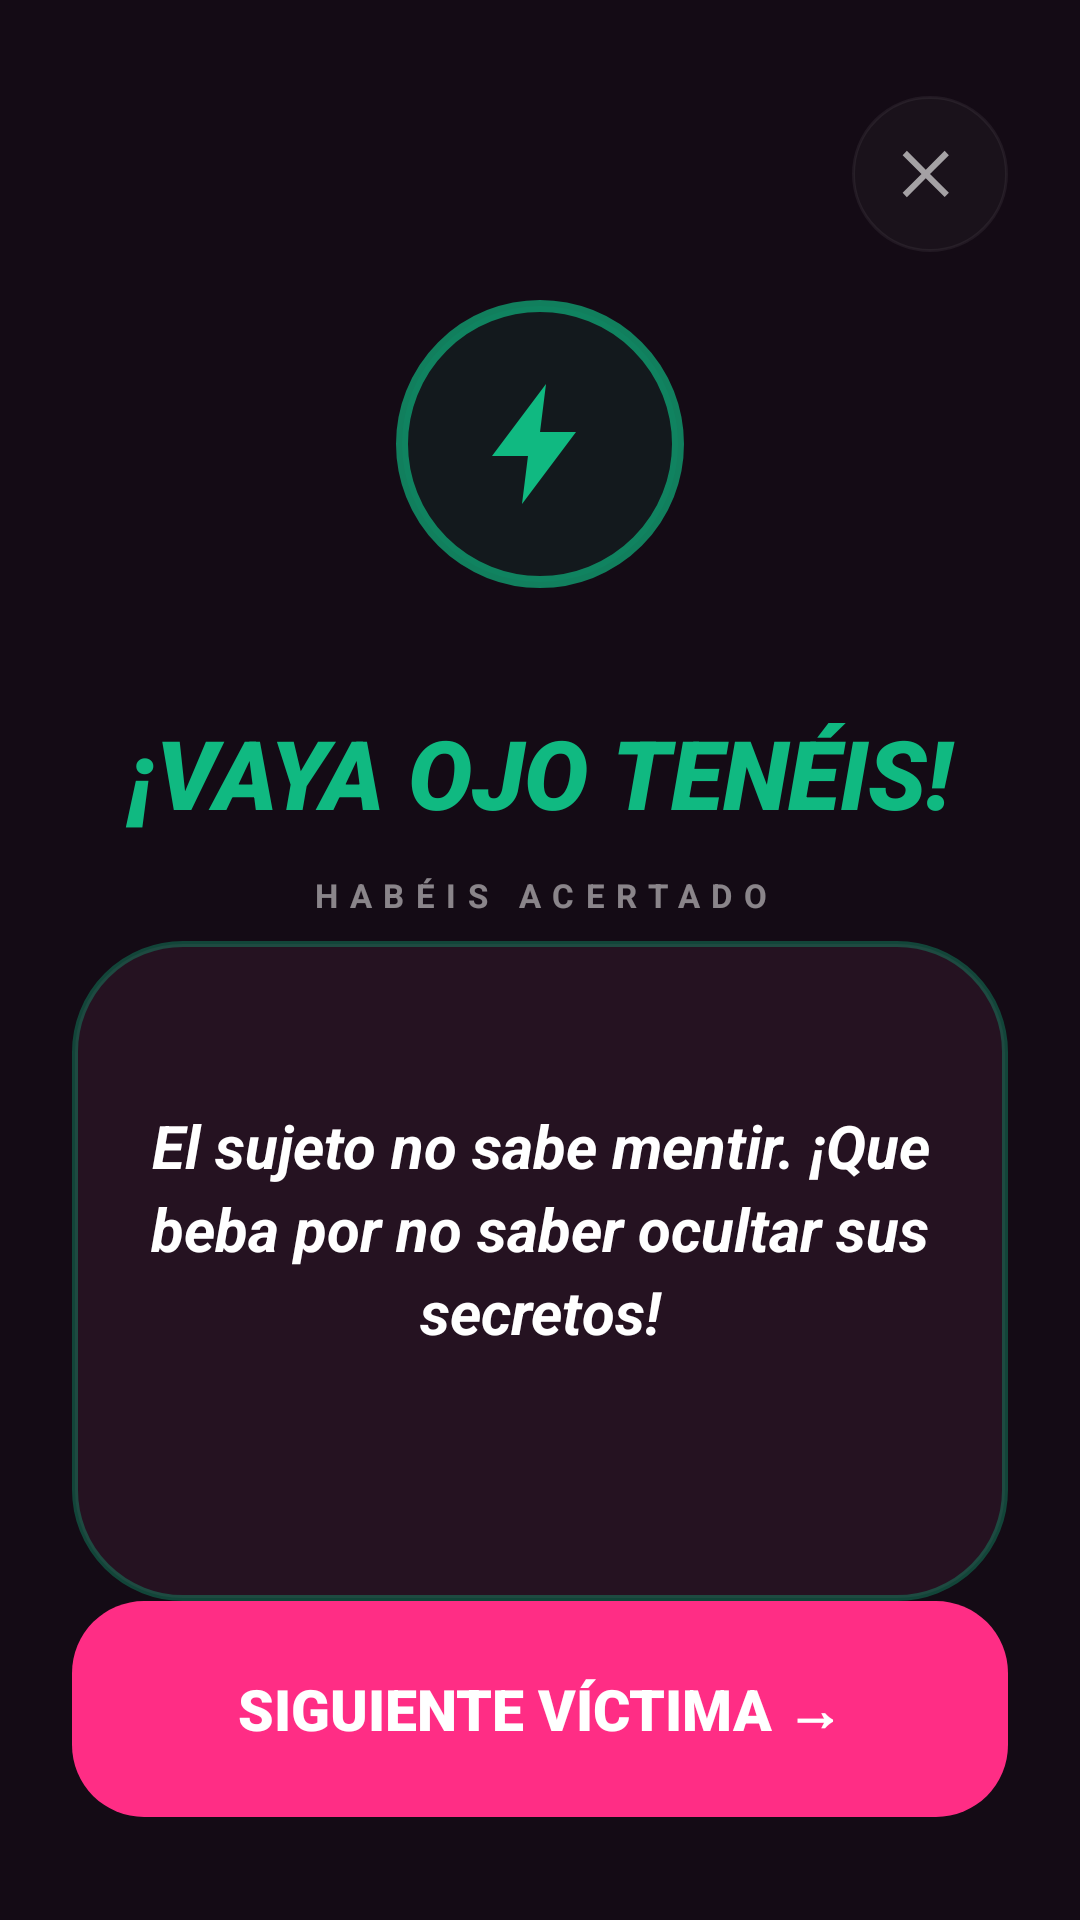

Point at icon controls on the screen. Image size 1080px x 1920px, points as [x,y].
Cerrar: [925,174]
zap: [534,444]
